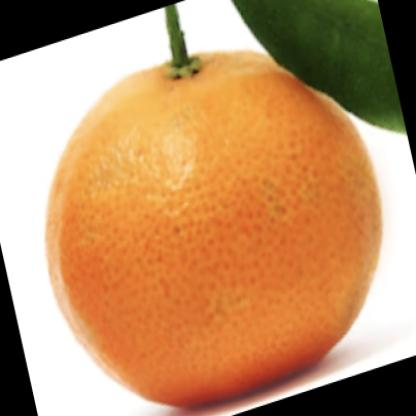fresh: (42, 55, 381, 407)
